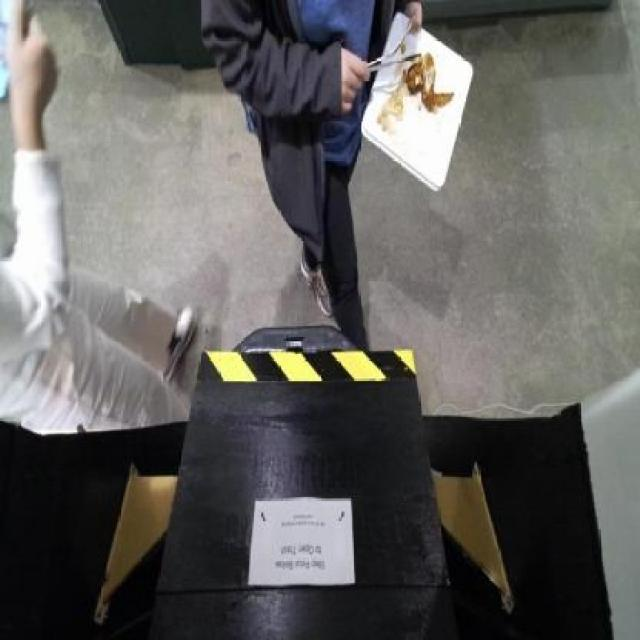Anorganik: (359, 10, 475, 193), (366, 21, 423, 73)
Organik: (409, 53, 455, 113), (379, 76, 423, 132)
